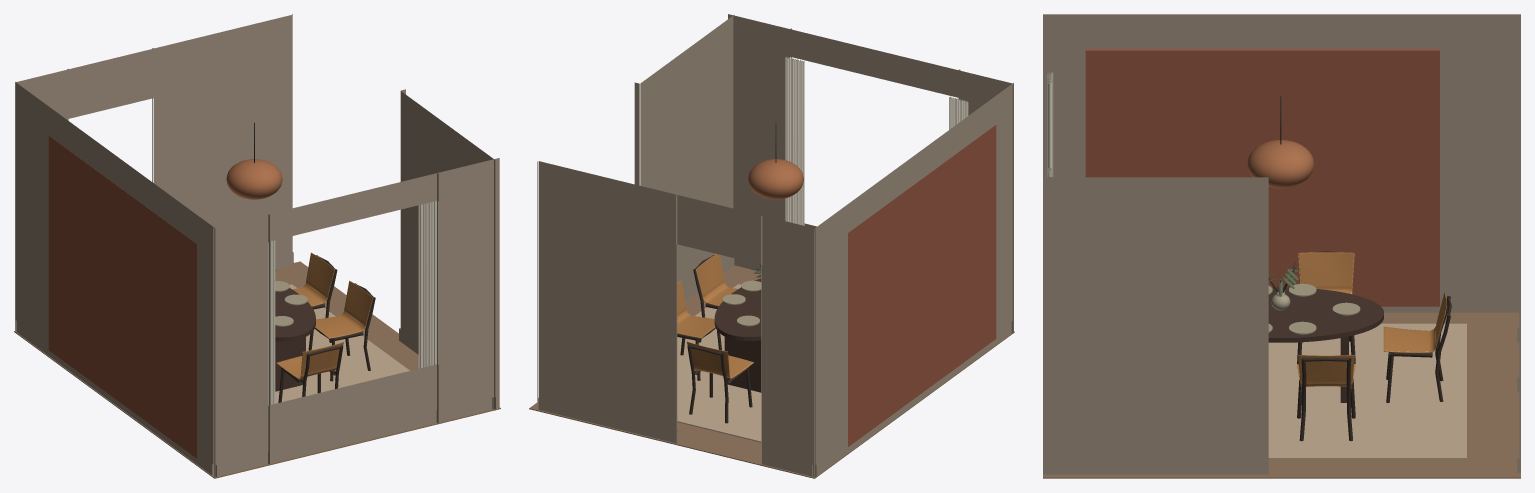
File: dining-2.glb
3 views of the same model, side by side, from view 1: azimuth 30°, elevation 25°; view 2: azimuth 150°, elevation 25°; view 3: azimuth 270°, elevation 25° (orthographic). The views are drawn at different scales.
Parts seen in each view (by area): view 1: DESIGN | dining removable wall finish, DESIGN | Dining clay wall field, DESIGN | dining floor finish, DESIGN | Dining ground, DESIGN | Dining linen edge.001, DESIGN | Required Isadora dining chair 3, DESIGN | Required Isadora dining chair 5, DESIGN | Dining light 1 shade, DESIGN | Required Isadora dining chair 4, DESIGN | Dining table top, DESIGN | Dining linen edge, DESIGN | Dining table trestle; view 2: DESIGN | dining removable wall finish, DESIGN | Dining clay wall field, DESIGN | Dining ground, DESIGN | dining floor finish, DESIGN | Dining linen edge.001, DESIGN | Required Isadora dining chair 6, DESIGN | Dining light 1 shade, DESIGN | Dining table top, DESIGN | Required Isadora dining chair 3, DESIGN | Dining table trestle.001, DESIGN | Required Isadora dining chair 4; view 3: DESIGN | dining removable wall finish, DESIGN | Dining clay wall field, DESIGN | Dining ground, DESIGN | dining floor finish, DESIGN | Dining table top, DESIGN | Required Isadora dining chair 6, DESIGN | Required Isadora dining chair 4, DESIGN | Dining light 1 shade, DESIGN | Required Isadora dining chair 2, DESIGN | Dining linen edge.
Boxes of the visible parts, left/top/right/bottom form: DESIGN | dining removable wall finish: left=15, top=14, right=499, bottom=477; DESIGN | Dining clay wall field: left=48, top=136, right=197, bottom=458; DESIGN | dining floor finish: left=14, top=261, right=500, bottom=478; DESIGN | Dining ground: left=275, top=284, right=409, bottom=403; DESIGN | Dining linen edge.001: left=418, top=201, right=436, bottom=368; DESIGN | Required Isadora dining chair 3: left=308, top=280, right=375, bottom=381; DESIGN | Required Isadora dining chair 5: left=276, top=342, right=343, bottom=402; DESIGN | Dining light 1 shade: left=226, top=159, right=282, bottom=199; DESIGN | Required Isadora dining chair 4: left=292, top=252, right=337, bottom=342; DESIGN | Dining table top: left=275, top=288, right=315, bottom=341; DESIGN | Dining linen edge: left=268, top=240, right=275, bottom=405; DESIGN | Dining table trestle: left=275, top=337, right=305, bottom=391; DESIGN | dining removable wall finish: left=537, top=14, right=1013, bottom=477; DESIGN | Dining clay wall field: left=848, top=125, right=996, bottom=446; DESIGN | Dining ground: left=677, top=284, right=761, bottom=442; DESIGN | dining floor finish: left=529, top=265, right=1014, bottom=478; DESIGN | Dining linen edge.001: left=785, top=57, right=804, bottom=225; DESIGN | Required Isadora dining chair 6: left=687, top=341, right=754, bottom=423; DESIGN | Dining light 1 shade: left=748, top=159, right=803, bottom=199; DESIGN | Dining table top: left=714, top=278, right=761, bottom=340; DESIGN | Required Isadora dining chair 3: left=693, top=254, right=737, bottom=342; DESIGN | Dining table trestle.001: left=724, top=337, right=761, bottom=392; DESIGN | Required Isadora dining chair 4: left=677, top=280, right=721, bottom=380; DESIGN | dining removable wall finish: left=1043, top=14, right=1520, bottom=474; DESIGN | Dining clay wall field: left=1085, top=49, right=1439, bottom=306; DESIGN | Dining ground: left=1268, top=323, right=1466, bottom=459; DESIGN | dining floor finish: left=1043, top=312, right=1520, bottom=478; DESIGN | Dining table top: left=1268, top=287, right=1383, bottom=342; DESIGN | Required Isadora dining chair 6: left=1383, top=292, right=1451, bottom=402; DESIGN | Required Isadora dining chair 4: left=1297, top=354, right=1355, bottom=441; DESIGN | Dining light 1 shade: left=1247, top=140, right=1314, bottom=188; DESIGN | Required Isadora dining chair 2: left=1297, top=251, right=1355, bottom=363; DESIGN | Dining linen edge: left=1047, top=72, right=1053, bottom=170.
Size of the model in its own units: 3.28 by 2.74 by 3.98.
